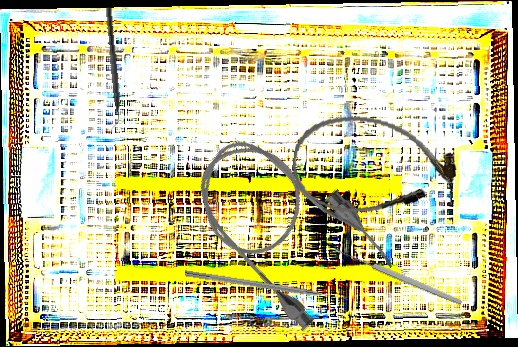Cannula: (171, 109, 403, 344), (286, 107, 463, 228)
Chopper: (97, 6, 125, 132)
Hook Surgical: (184, 269, 347, 303)
Surgical Spoon: (333, 245, 464, 307)
